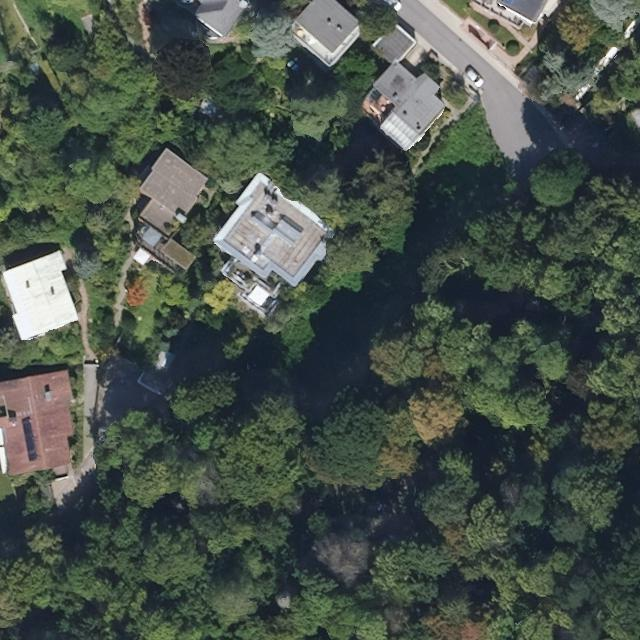PV: (21, 414, 39, 463)
